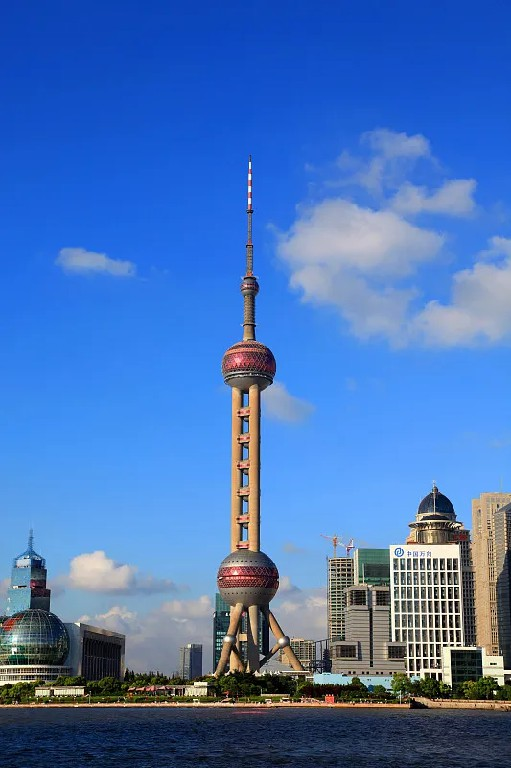Oriental: (214, 153, 306, 676)
